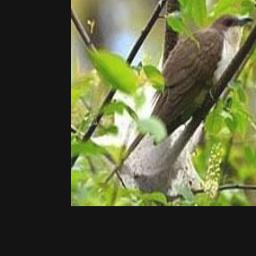Cuckoo: (106, 14, 253, 182)
